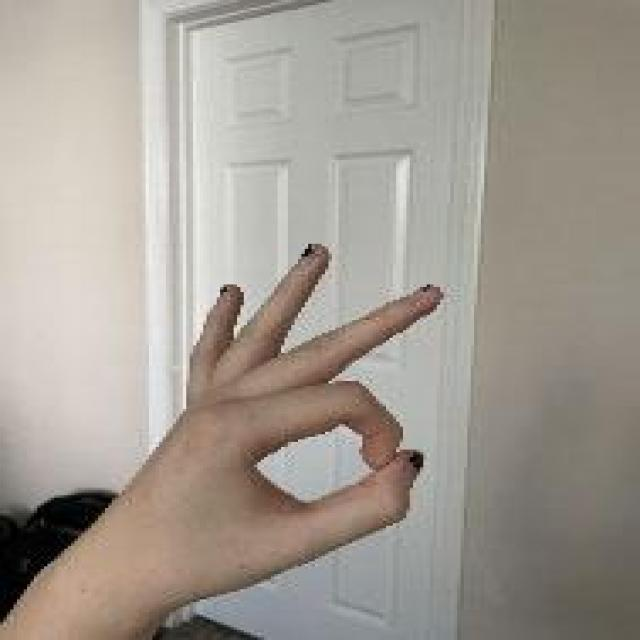F: (130, 238, 452, 610)
